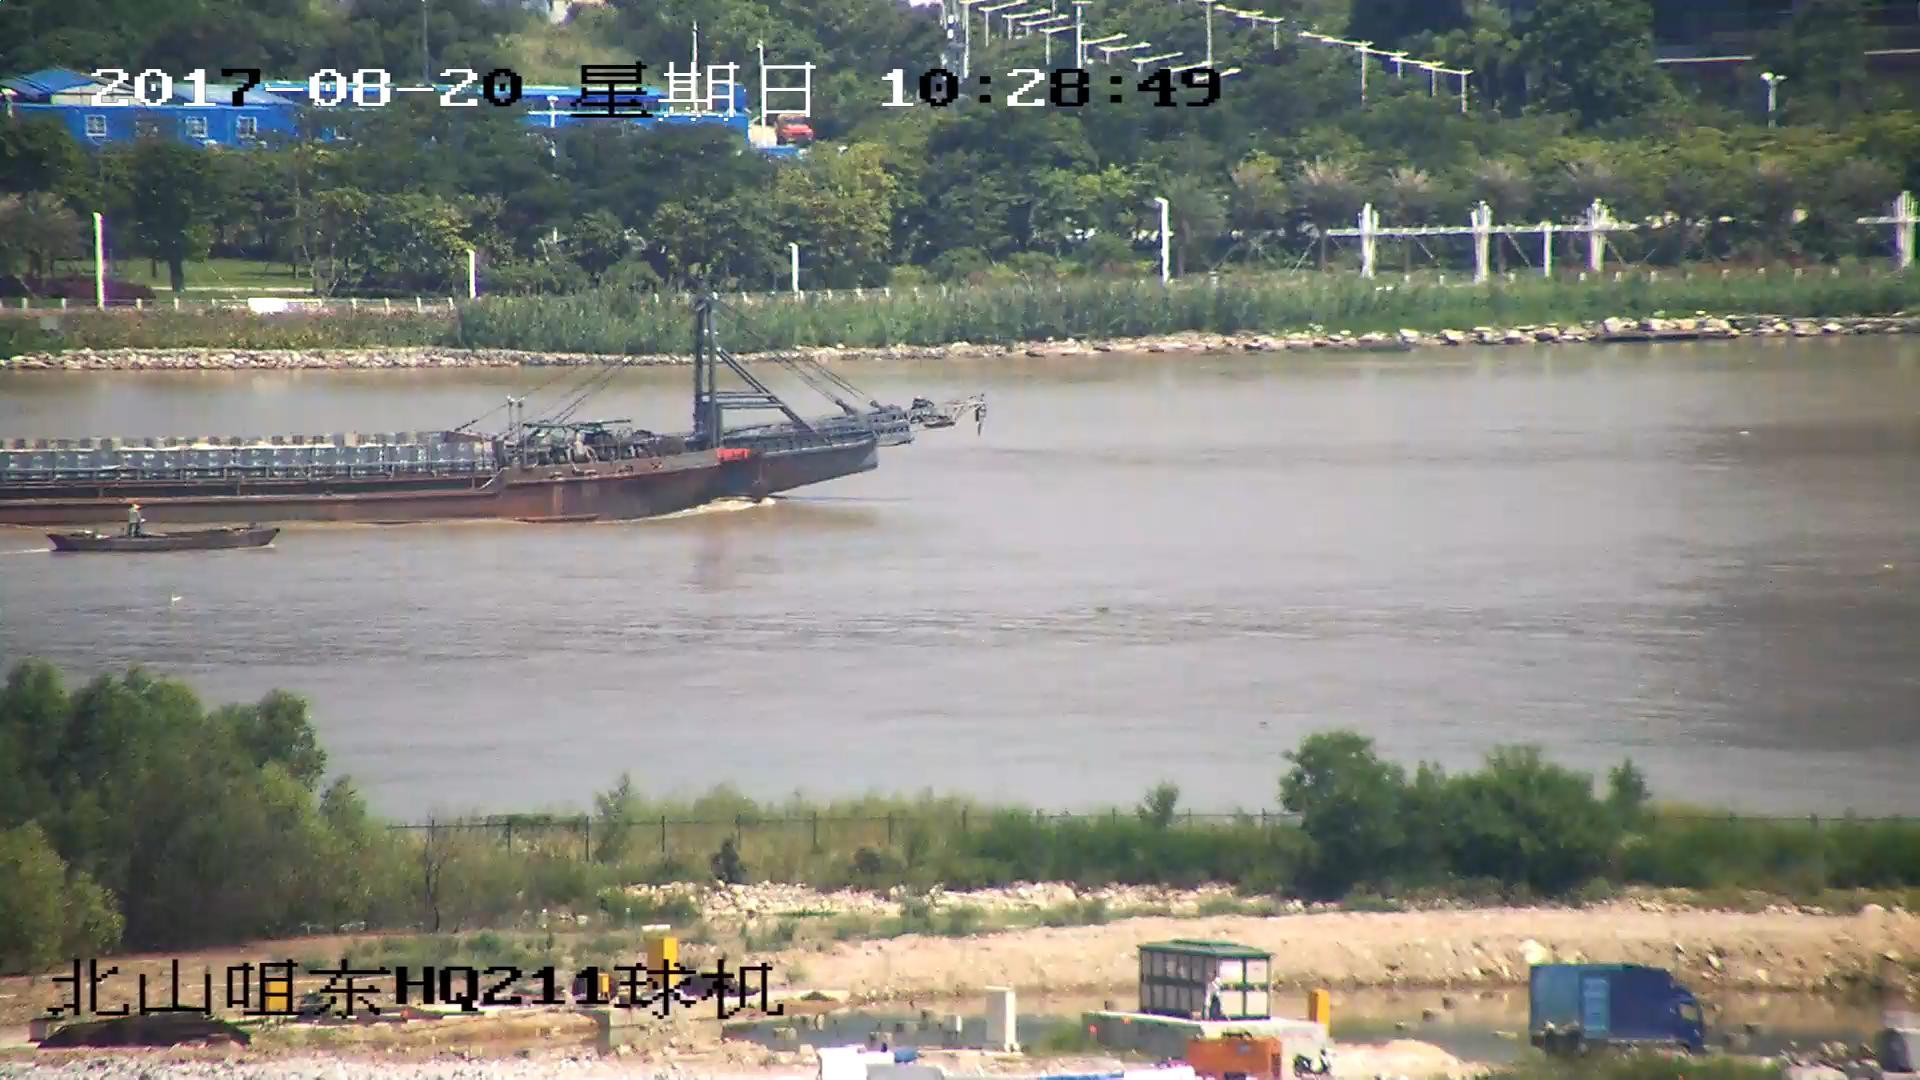Ship: (3, 291, 975, 522), (44, 506, 290, 559)
